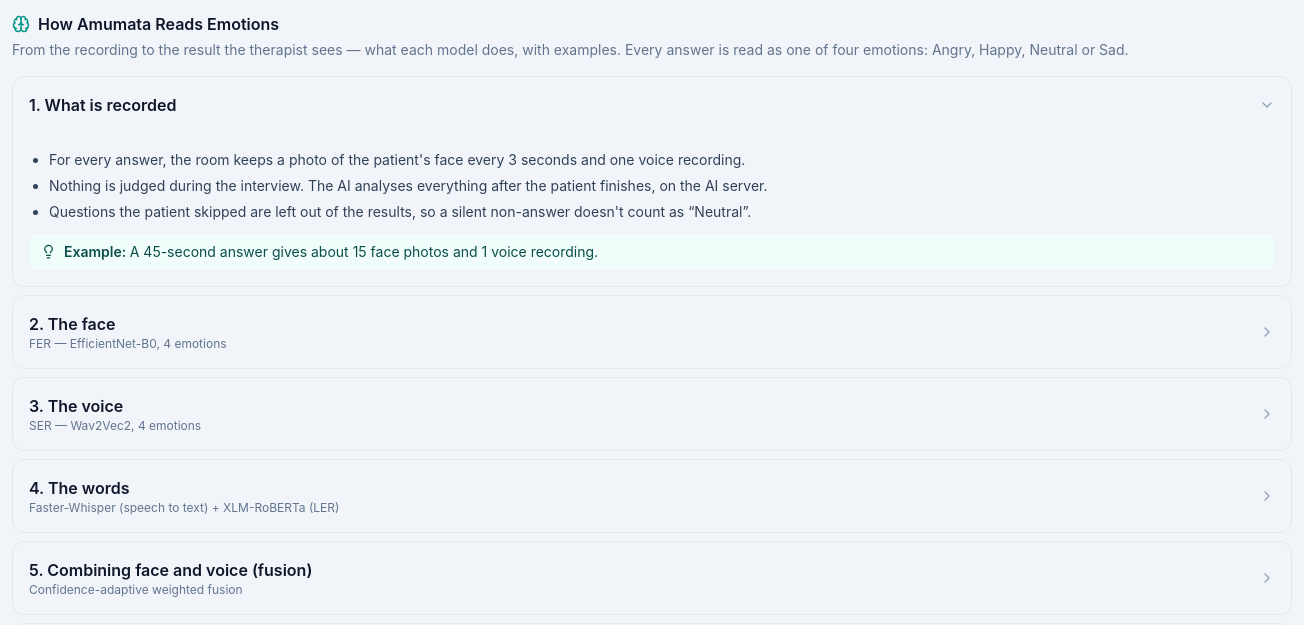
Scenario: HowEmotionsWork › walks through each step with an example; steps open on tap
This screenshot has width=1304, height=625.
Expected: the heading "How Amumata Reads Emotions" is shown, [12,14,279,34]
Expected: the list item "a photo of the patient's face every 3 seconds" is shown, [49,151,745,168]
Click the button "3. The voice SER — Wav2Vec2, 4 emotions".
click(76, 406)  # box [13,378,1291,450]
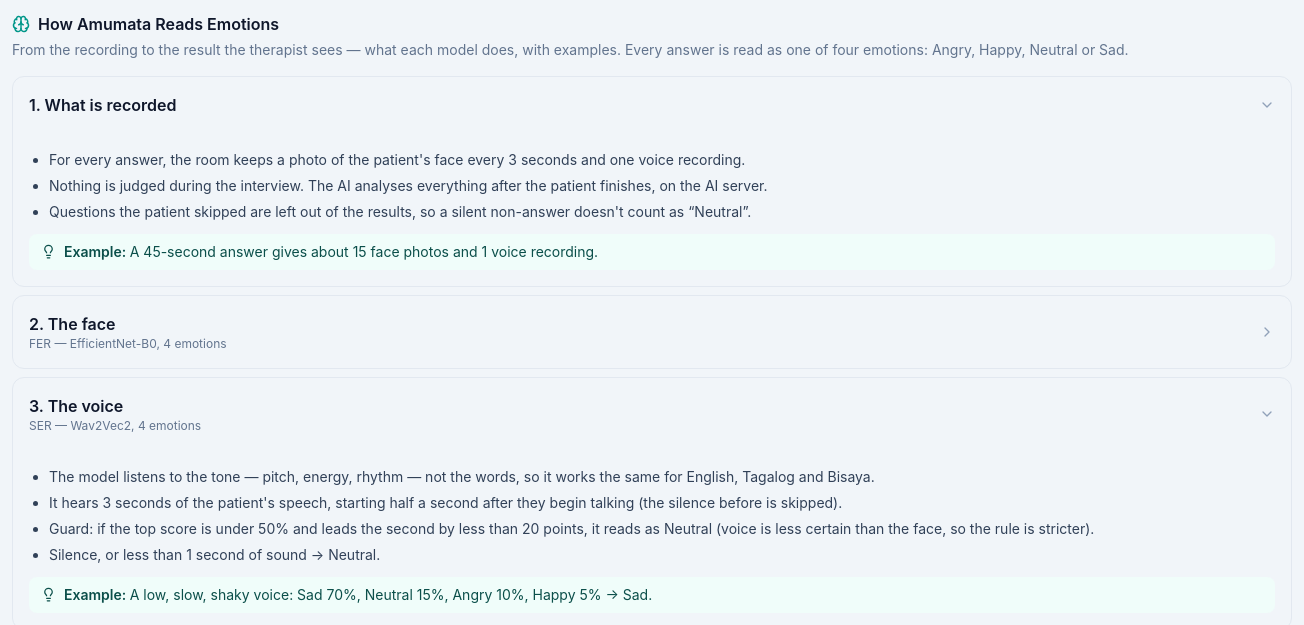
Result: the list item "hears 3 seconds of the patient's speech" is shown at [49,494,842,511]
